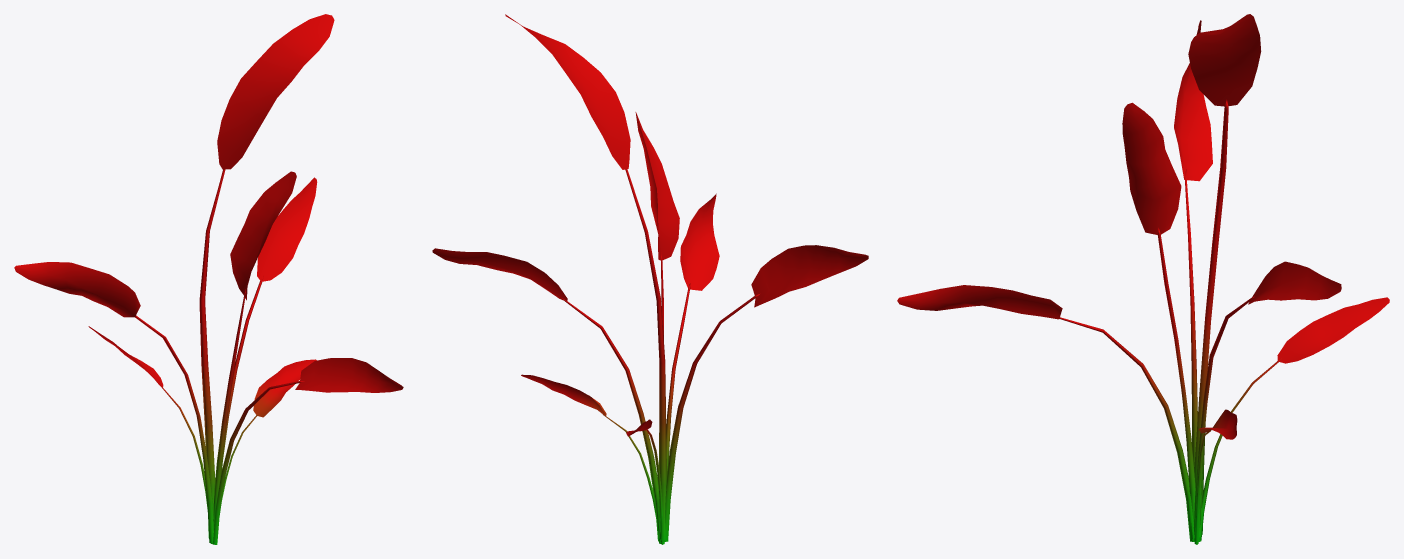
The model's file is Bird Of Paradise_LOD4_Var8_wfypeifha.fbx.
3 views of the same model, side by side, from view 1: azimuth 30°, elevation 25°; view 2: azimuth 150°, elevation 25°; view 3: azimuth 270°, elevation 25° (orthographic). The views are drawn at different scales.
Visible parts, largest first — view 1: _5lpg_Var8_LOD4; view 2: _5lpg_Var8_LOD4; view 3: _5lpg_Var8_LOD4.
Boxes of the visible parts, left/top/right/bottom form: _5lpg_Var8_LOD4: left=14, top=14, right=403, bottom=544; _5lpg_Var8_LOD4: left=432, top=14, right=868, bottom=544; _5lpg_Var8_LOD4: left=897, top=14, right=1389, bottom=544.
Bounding box in the file's own units: 141 × 182 × 135.
